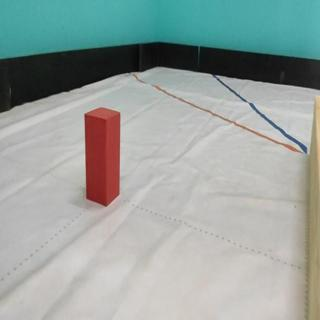redbox: (83, 106, 121, 207)
